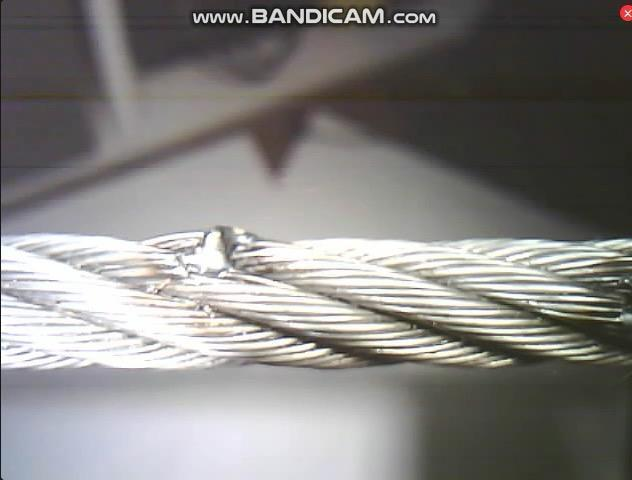thunderbolt: (167, 223, 266, 288)
